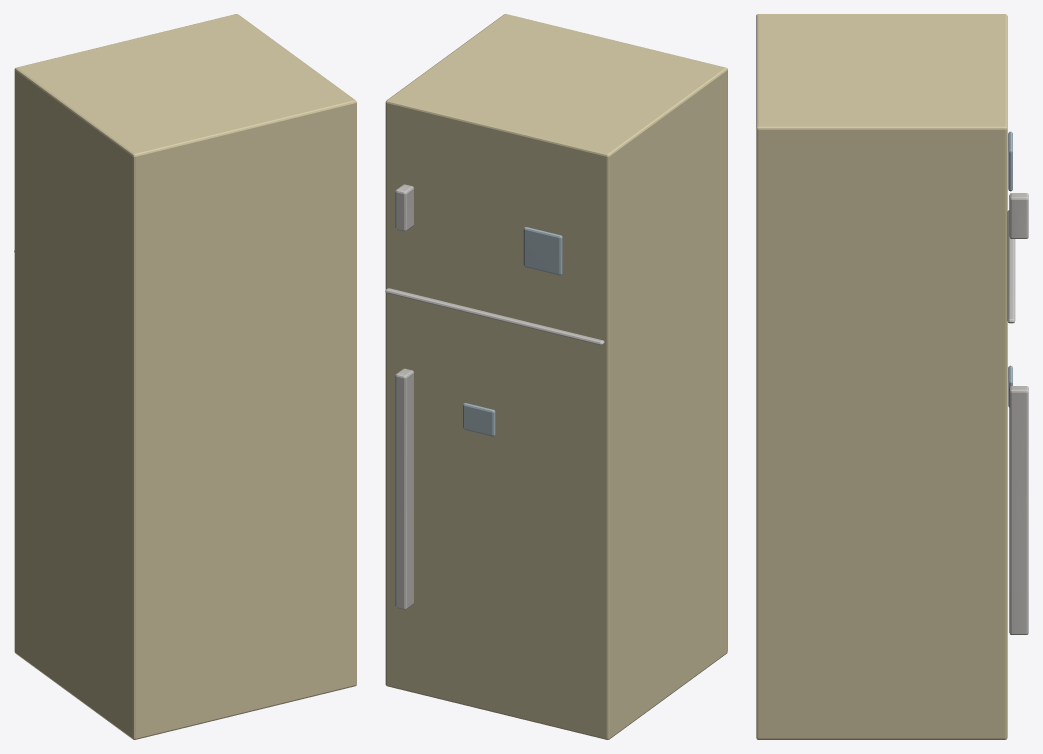
Rendered from furn_fridge__butter.glb.
The picture shows the model from 3 angles, left to right: view 1: azimuth 30°, elevation 25°; view 2: azimuth 150°, elevation 25°; view 3: azimuth 270°, elevation 25°; orthographic projection. The views are drawn at different scales.
Size of the model in its own units: 0.7 by 1.75 by 0.705.
